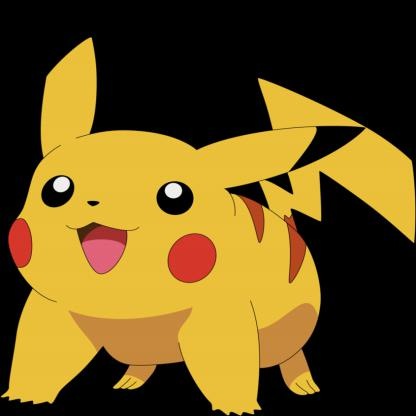Pikachu: (6, 1, 416, 416)
